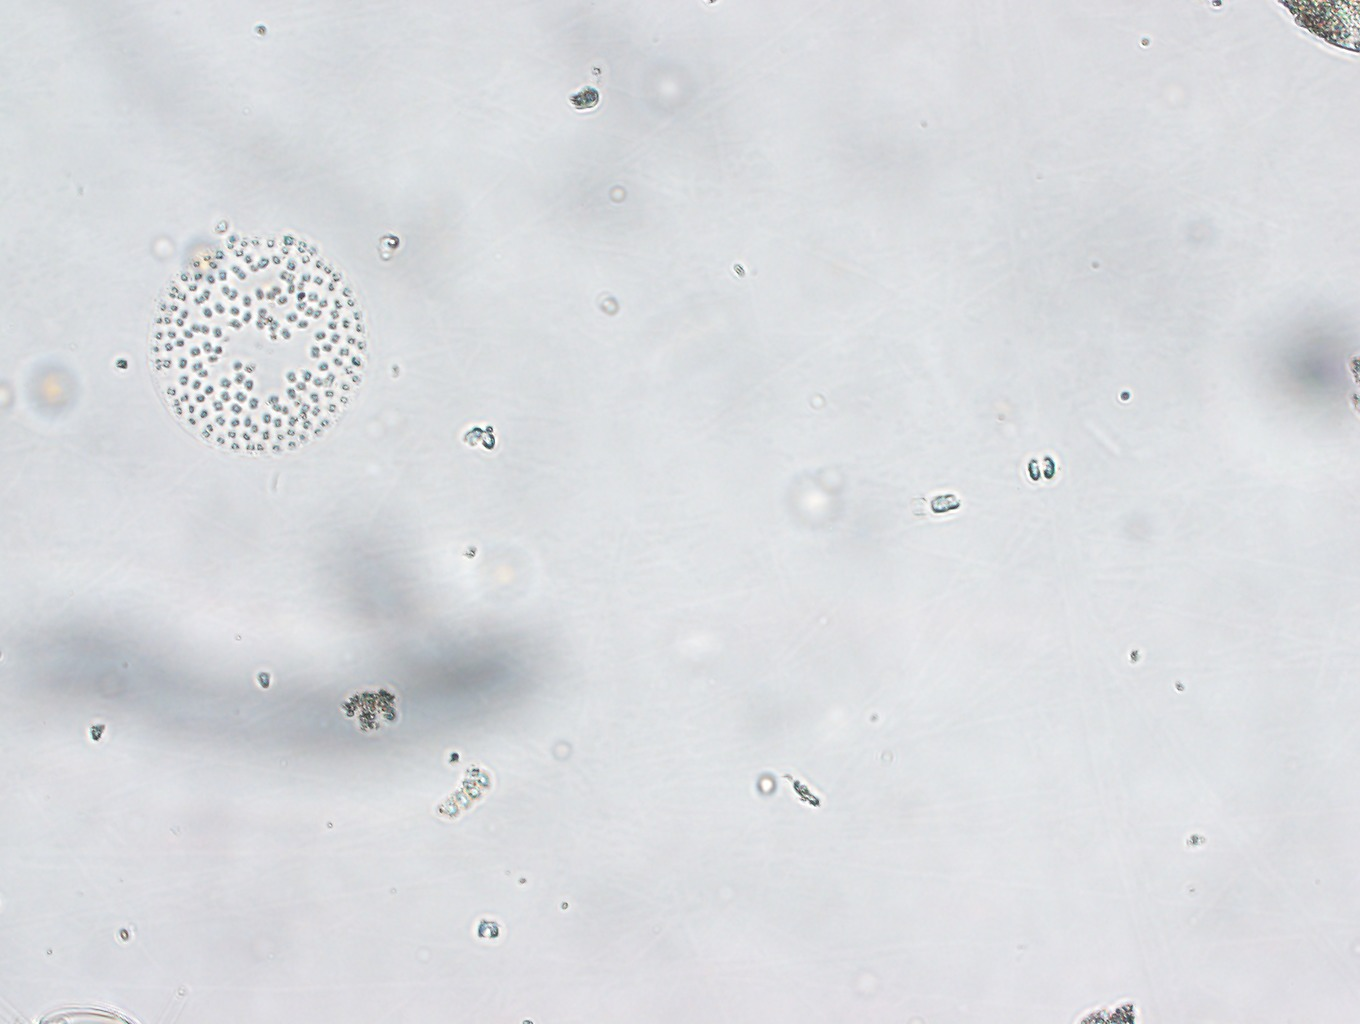coscinodiscus: (139, 223, 373, 459)
